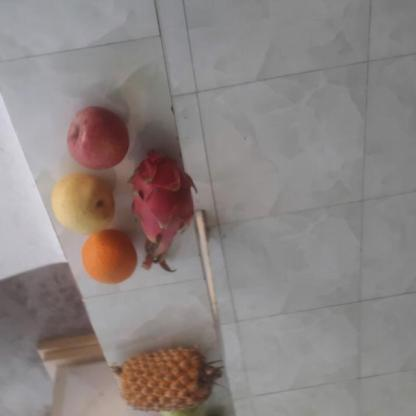apple: (66, 105, 130, 171)
orange: (80, 231, 136, 287)
pear: (49, 172, 117, 237)
pineapple: (114, 346, 215, 413)
pitaya: (120, 149, 193, 253)
